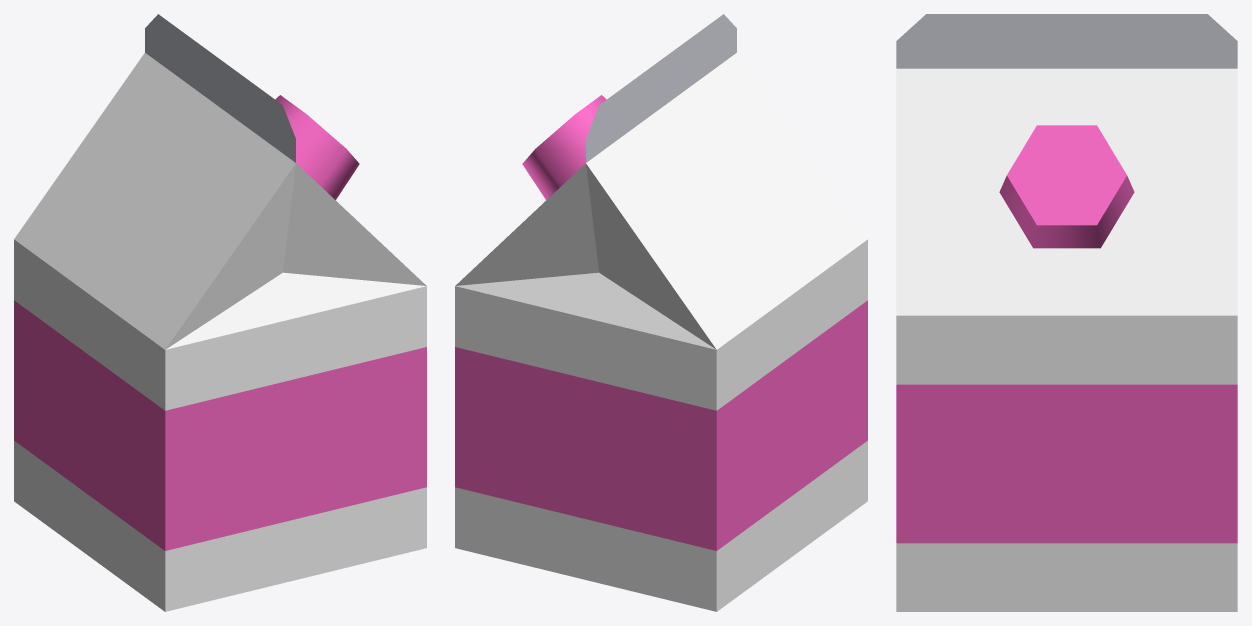
The model's file is cartonSmall.obj.
3 renders of one model, left to right at view 1: azimuth 30°, elevation 25°; view 2: azimuth 150°, elevation 25°; view 3: azimuth 270°, elevation 25°, orthographic. The views are drawn at different scales.
Parts seen in each view (by area): view 1: cartonSmall; view 2: cartonSmall; view 3: cartonSmall.
Part boxes in pixels (x1,y1,x2,y2): cartonSmall: [14, 14, 426, 611]; cartonSmall: [455, 14, 867, 611]; cartonSmall: [896, 14, 1237, 611].
Size of the model in its own units: 0.23 by 0.3905 by 0.23.
